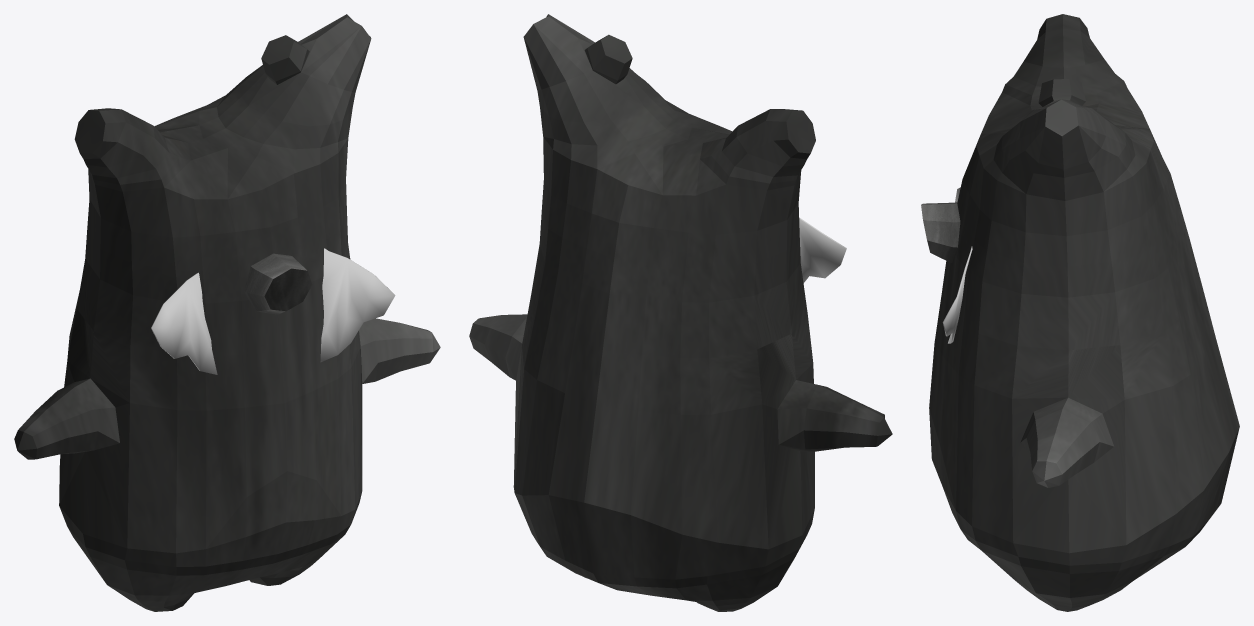
File: frame_0001.obj
3 renders of one model, left to right at view 1: azimuth 30°, elevation 25°; view 2: azimuth 150°, elevation 25°; view 3: azimuth 270°, elevation 25°, orthographic.
Visible parts, largest first — view 1: korok, leaf, nose; view 2: korok, leaf; view 3: korok, nose, leaf.
Boxes of the visible parts, left/top/right/bottom form: korok: left=14, top=14, right=440, bottom=611; leaf: left=151, top=248, right=395, bottom=374; nose: left=244, top=253, right=312, bottom=314; korok: left=469, top=14, right=892, bottom=611; leaf: left=799, top=217, right=846, bottom=282; korok: left=929, top=14, right=1239, bottom=611; nose: left=921, top=202, right=960, bottom=262; leaf: left=942, top=187, right=972, bottom=343.
Size of the model in its own units: 1.81 by 2.25 by 1.2.
